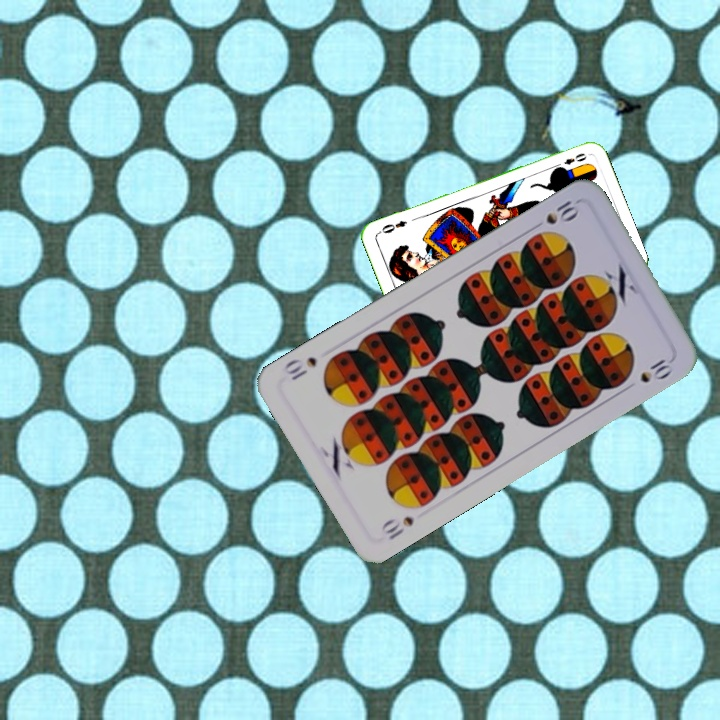EO: (559, 149, 590, 167)
S10: (527, 196, 583, 233), (376, 512, 417, 543)
